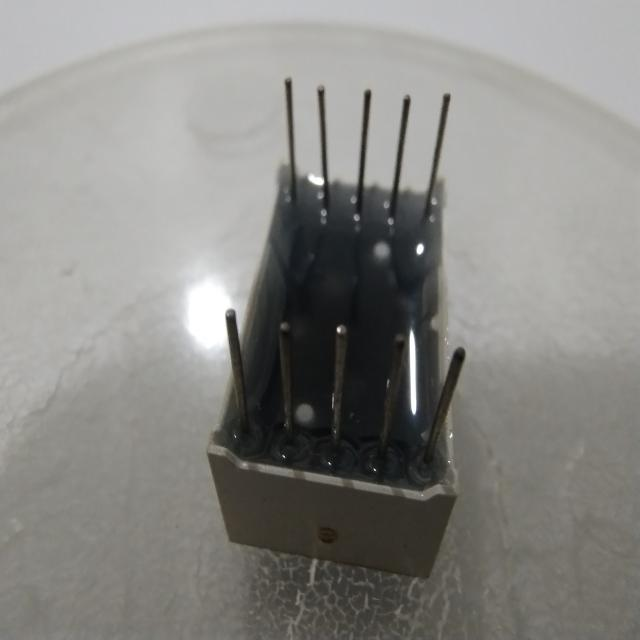7_segments: (195, 56, 490, 596)
